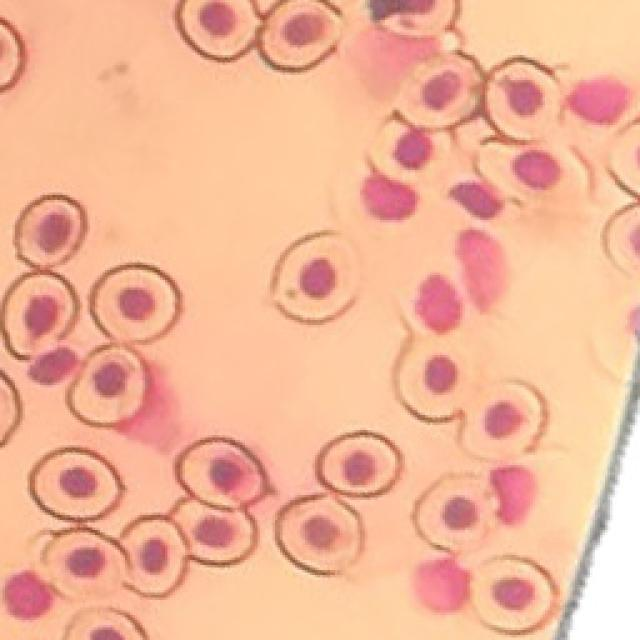RBC: (271, 231, 359, 322), (476, 139, 589, 206), (90, 262, 181, 342), (394, 336, 478, 421), (275, 494, 362, 575), (0, 271, 79, 359), (460, 380, 548, 459), (412, 472, 498, 552), (471, 555, 558, 634), (30, 448, 124, 521), (396, 52, 482, 129), (176, 438, 269, 509), (68, 344, 146, 426), (485, 58, 561, 141), (42, 529, 126, 599), (260, 0, 341, 70), (369, 115, 451, 184), (316, 431, 401, 497), (604, 120, 640, 274), (171, 499, 256, 564), (121, 515, 188, 596), (14, 195, 88, 268), (176, 0, 260, 61), (369, 0, 459, 38), (602, 202, 640, 276), (62, 608, 148, 639), (1, 370, 21, 446)
WBC: (456, 229, 508, 311), (414, 556, 469, 612), (361, 171, 418, 220), (568, 78, 629, 123), (490, 465, 536, 524), (415, 274, 461, 332), (5, 571, 52, 618), (450, 181, 502, 219), (29, 348, 78, 384)
